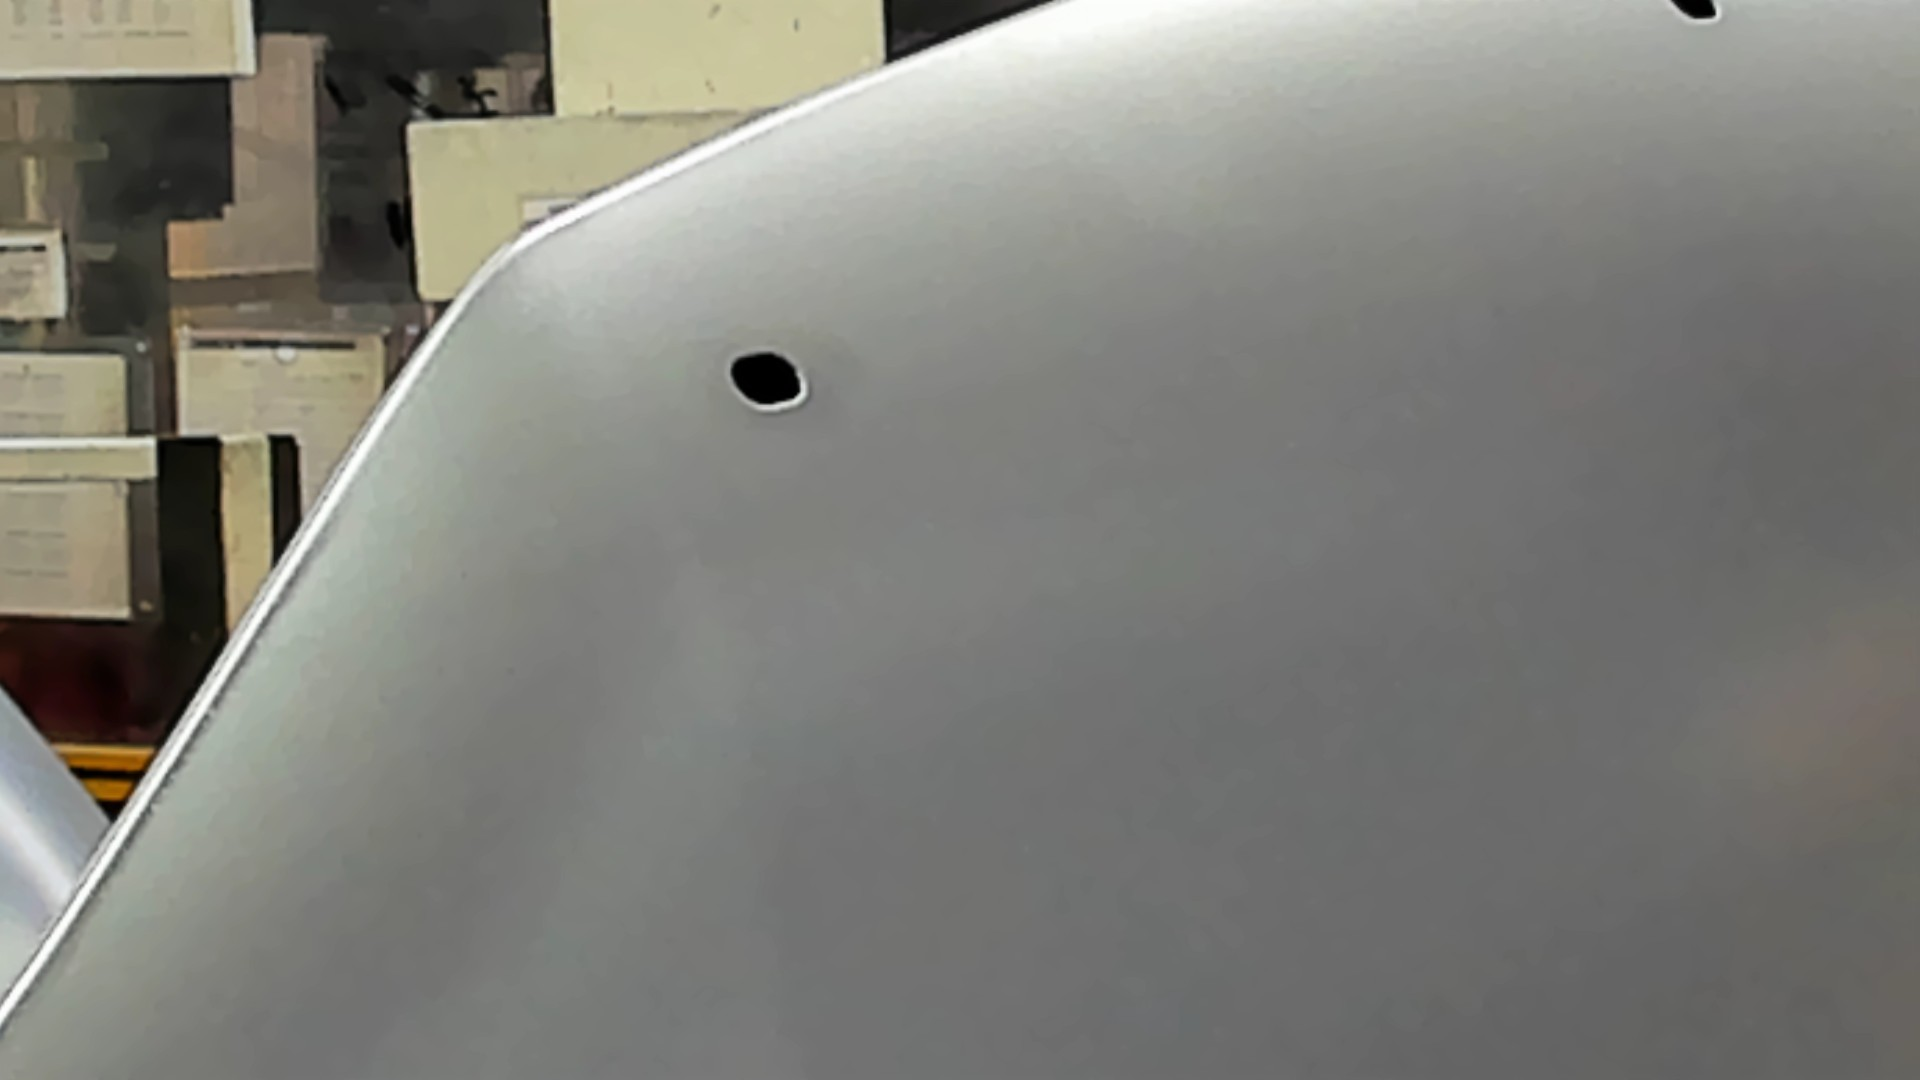amorfo: (723, 345, 810, 417), (1669, 1, 1725, 24)
